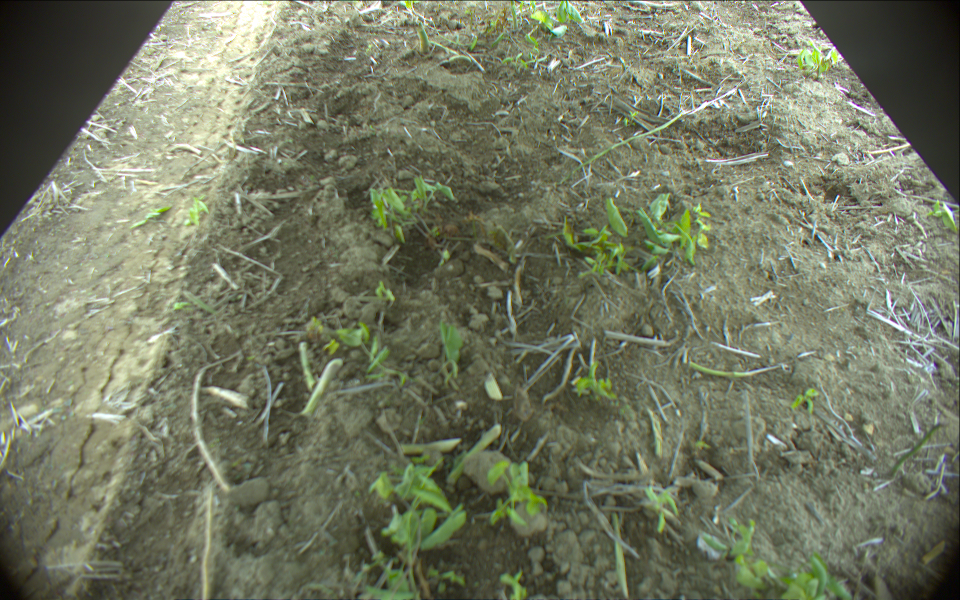aspa: (301, 361, 344, 418), (298, 340, 313, 389), (415, 23, 432, 53)
